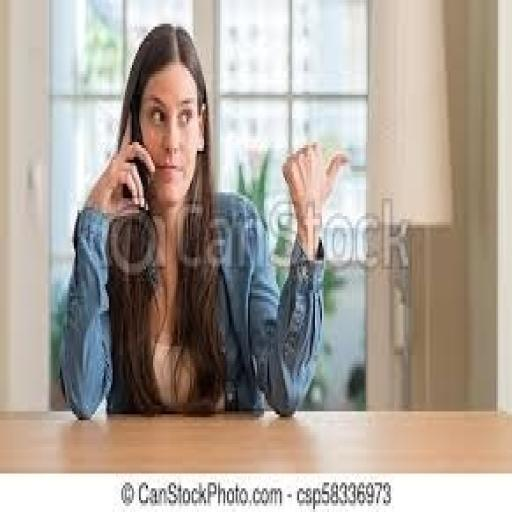texting: (58, 21, 350, 420)
